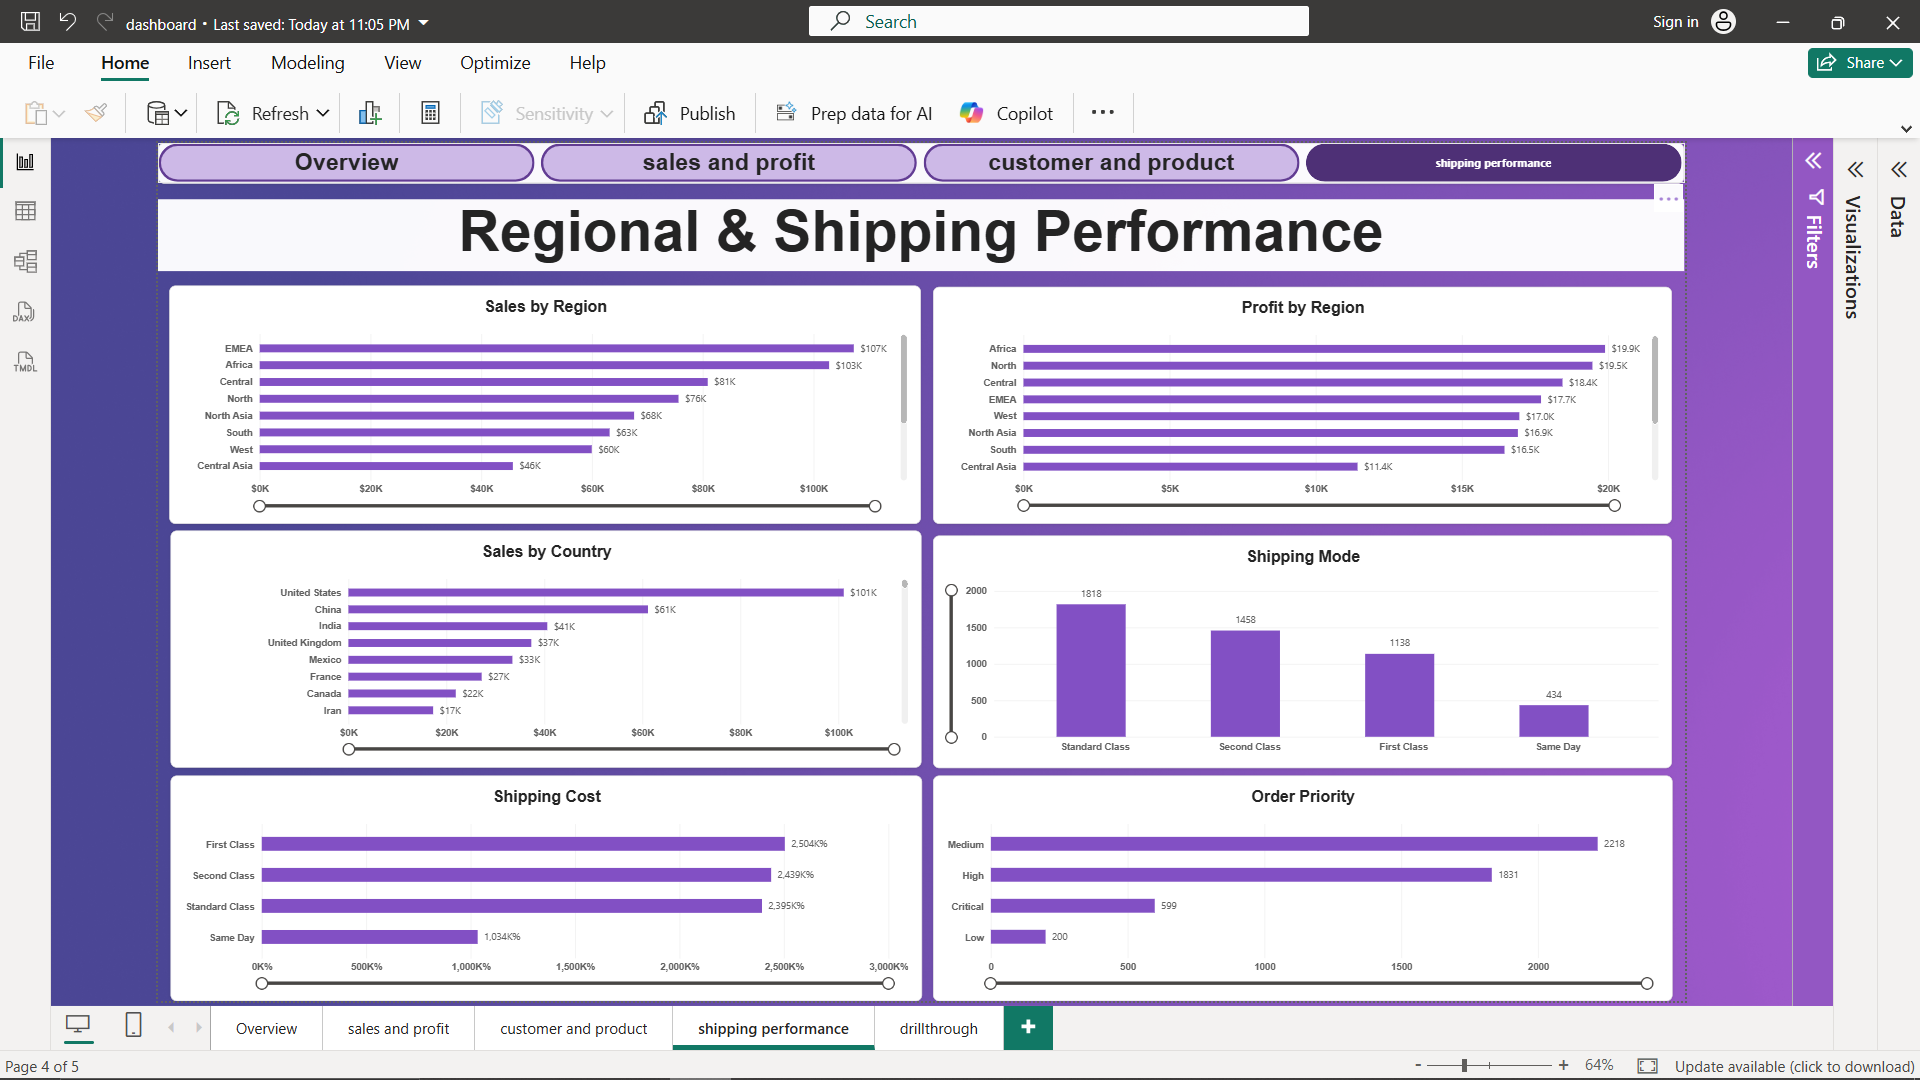

The dashboard page shown, as its layout file describes it:
{"tool":"powerbi","page":{"name":"shipping performance","canvas":[1920,1080],"ordinal":3},"visuals":[{"type":"textbox","title":"Global Superstore - Executive Business Overview","box":[0,70.8,1920.4,90.7],"z":0},{"type":"barChart","title":"Sales by Region","fields":{"Category":["superstore.Region"],"Y":["DateTable.Total Sales"]},"box":[14,179.7,945.4,300],"z":1},{"type":"barChart","title":"Profit by Region","fields":{"Category":["superstore.Region"],"Y":["DateTable.Total Profit"]},"box":[975,181.4,929.7,298.3],"z":2},{"type":"barChart","title":"Sales by Country","fields":{"Category":["superstore.Country"],"Y":["DateTable.Total Sales"]},"box":[16,488,945,298],"z":3},{"type":"columnChart","title":"Shipping Mode","fields":{"Category":["superstore.Ship.Mode"],"Y":["DateTable.Total Orders"]},"box":[975,493.6,929.7,293],"z":4},{"type":"barChart","title":"Shipping Cost","fields":{"Category":["superstore.Ship.Mode"],"Y":["DateTable.Total Shipping Cost"]},"box":[15.7,795.4,945.4,284.3],"z":5},{"type":"barChart","title":"Order Priority","fields":{"Category":["superstore.Order.Priority"],"Y":["DateTable.Total Orders"]},"box":[975,796,930,284],"z":6},{"type":"pageNavigator","box":[0,0,1919.9,50.9],"z":7}]}

Visuals, with their boxes on the page's 1920x1080 design canvas (x1, y1, x2, y2). These are canvas units, not pixel positions in the 1920x1080 screenshot, which may show the page scaled, cropped or inside an application window:
"Global Superstore - Executive Business Overview" textbox: (0,71,1920,162)
"Sales by Region" barChart: (14,180,959,480)
"Profit by Region" barChart: (975,181,1905,480)
"Sales by Country" barChart: (16,488,961,786)
"Shipping Mode" columnChart: (975,494,1905,787)
"Shipping Cost" barChart: (16,795,961,1080)
"Order Priority" barChart: (975,796,1905,1080)
pageNavigator: (0,0,1920,51)
